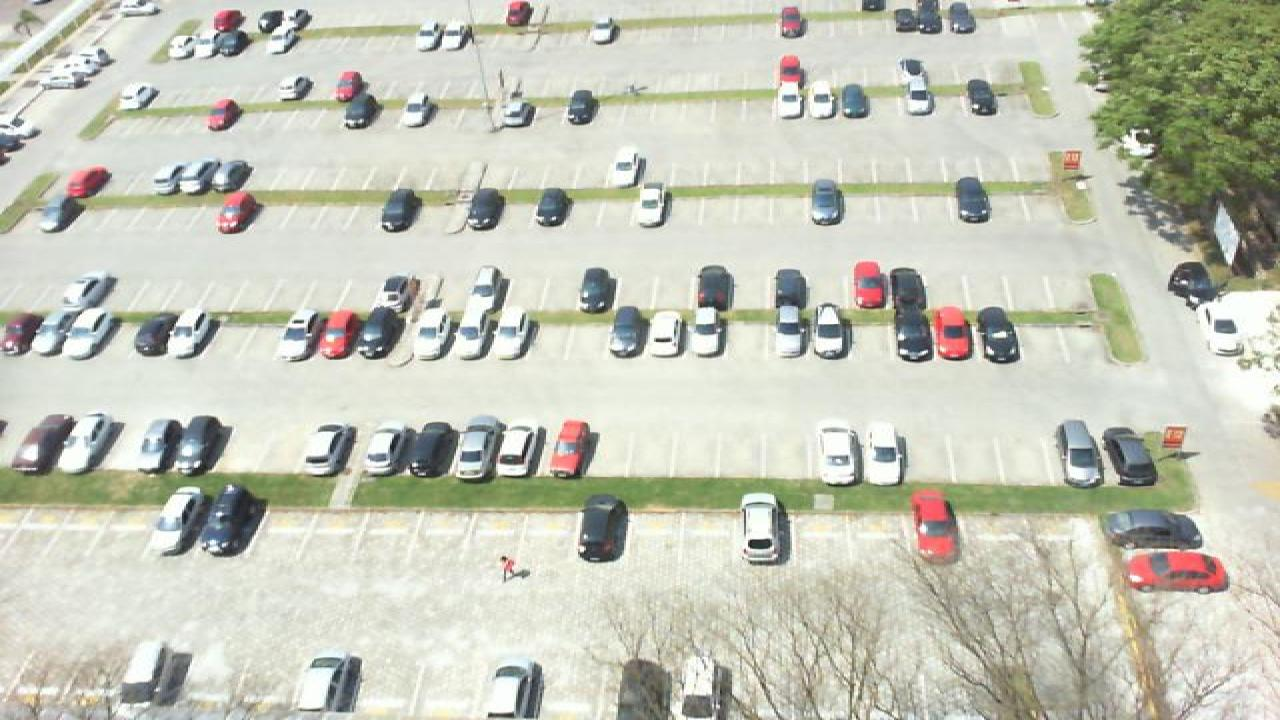Car: (1124, 549, 1228, 593), (290, 656, 360, 720), (1100, 507, 1202, 549), (196, 484, 254, 557), (8, 413, 74, 472), (122, 641, 184, 703), (148, 486, 202, 557), (574, 494, 630, 562), (58, 411, 116, 474), (910, 489, 960, 562), (672, 655, 726, 720), (740, 493, 788, 565), (482, 659, 538, 720), (448, 420, 500, 481), (1054, 420, 1102, 483), (1100, 428, 1154, 483), (176, 416, 226, 475), (858, 422, 904, 486), (300, 423, 354, 477), (138, 415, 188, 473), (814, 426, 860, 487), (408, 422, 456, 478), (1168, 261, 1226, 307), (976, 306, 1020, 363), (808, 303, 852, 359), (546, 420, 588, 477), (362, 426, 408, 478), (360, 309, 406, 361), (492, 423, 536, 477), (894, 306, 936, 361), (70, 310, 118, 358), (276, 311, 322, 361), (170, 310, 216, 359), (132, 310, 178, 359), (34, 309, 80, 358), (934, 305, 972, 361), (412, 308, 452, 360), (316, 309, 356, 361), (684, 306, 722, 358), (644, 309, 684, 358), (58, 274, 112, 310), (494, 308, 532, 359), (0, 310, 40, 358), (952, 177, 992, 225), (608, 306, 644, 359), (450, 309, 488, 358), (850, 261, 888, 308), (696, 263, 732, 312), (890, 266, 928, 312), (776, 305, 808, 359), (578, 267, 614, 315), (468, 264, 504, 312), (380, 189, 418, 233), (808, 179, 844, 225), (216, 191, 254, 234), (464, 189, 502, 231), (772, 268, 808, 312), (634, 181, 668, 227), (370, 276, 410, 315), (62, 167, 108, 199), (534, 188, 570, 226), (180, 158, 218, 194), (150, 162, 190, 196), (612, 148, 646, 186), (338, 94, 376, 128), (212, 158, 248, 192), (398, 93, 434, 127), (774, 79, 806, 117), (964, 79, 996, 115), (206, 99, 240, 132), (564, 89, 596, 124), (496, 96, 532, 127), (836, 82, 866, 118), (808, 82, 838, 118), (118, 82, 158, 109), (902, 80, 932, 115), (946, 0, 976, 34), (916, 0, 946, 33), (276, 73, 312, 100), (260, 29, 296, 55), (332, 70, 362, 101), (168, 34, 202, 60), (588, 15, 618, 44), (444, 21, 472, 52), (778, 6, 806, 37), (414, 22, 444, 50), (194, 32, 226, 58), (776, 54, 804, 83), (218, 30, 248, 57), (210, 7, 242, 32), (504, 0, 532, 27), (892, 7, 922, 32)
